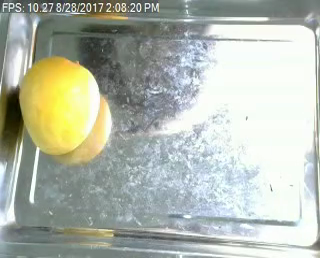Mango: (17, 54, 101, 155)
